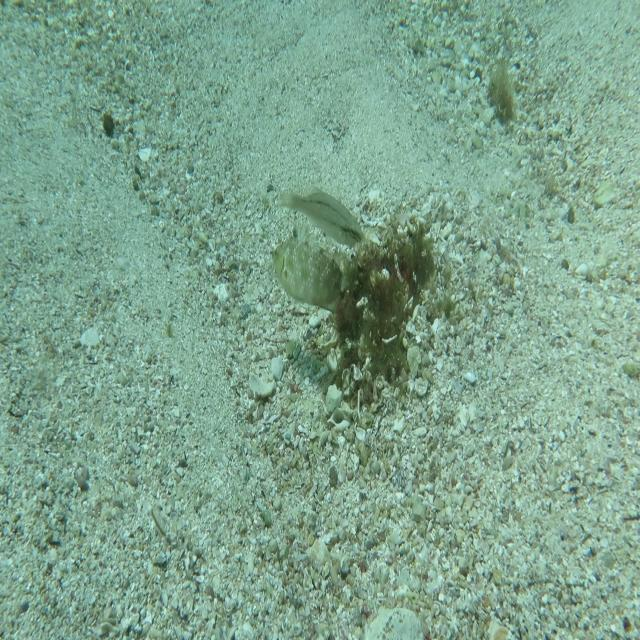DAN_CIRC: (270, 219, 346, 317)
female: (280, 182, 364, 249)
nest: (314, 199, 452, 415)
